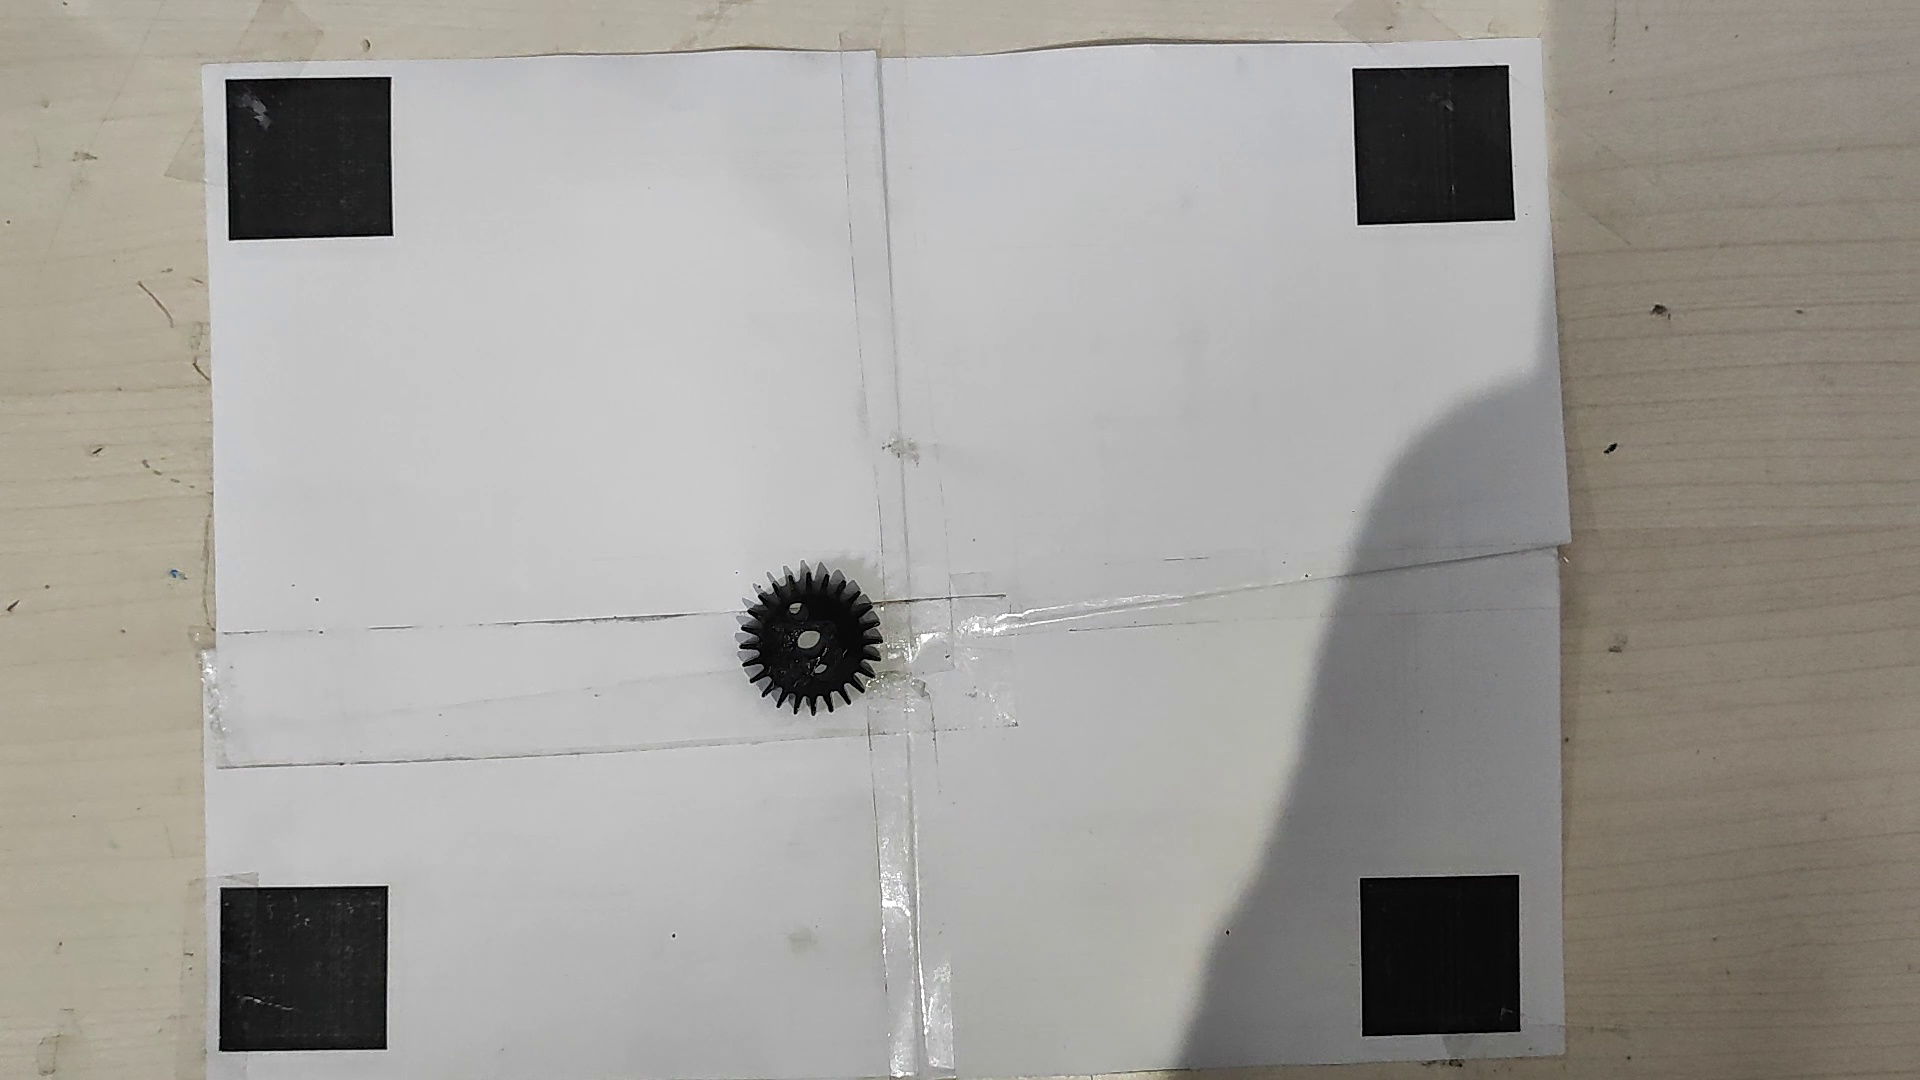Gear: (736, 558, 887, 716)
